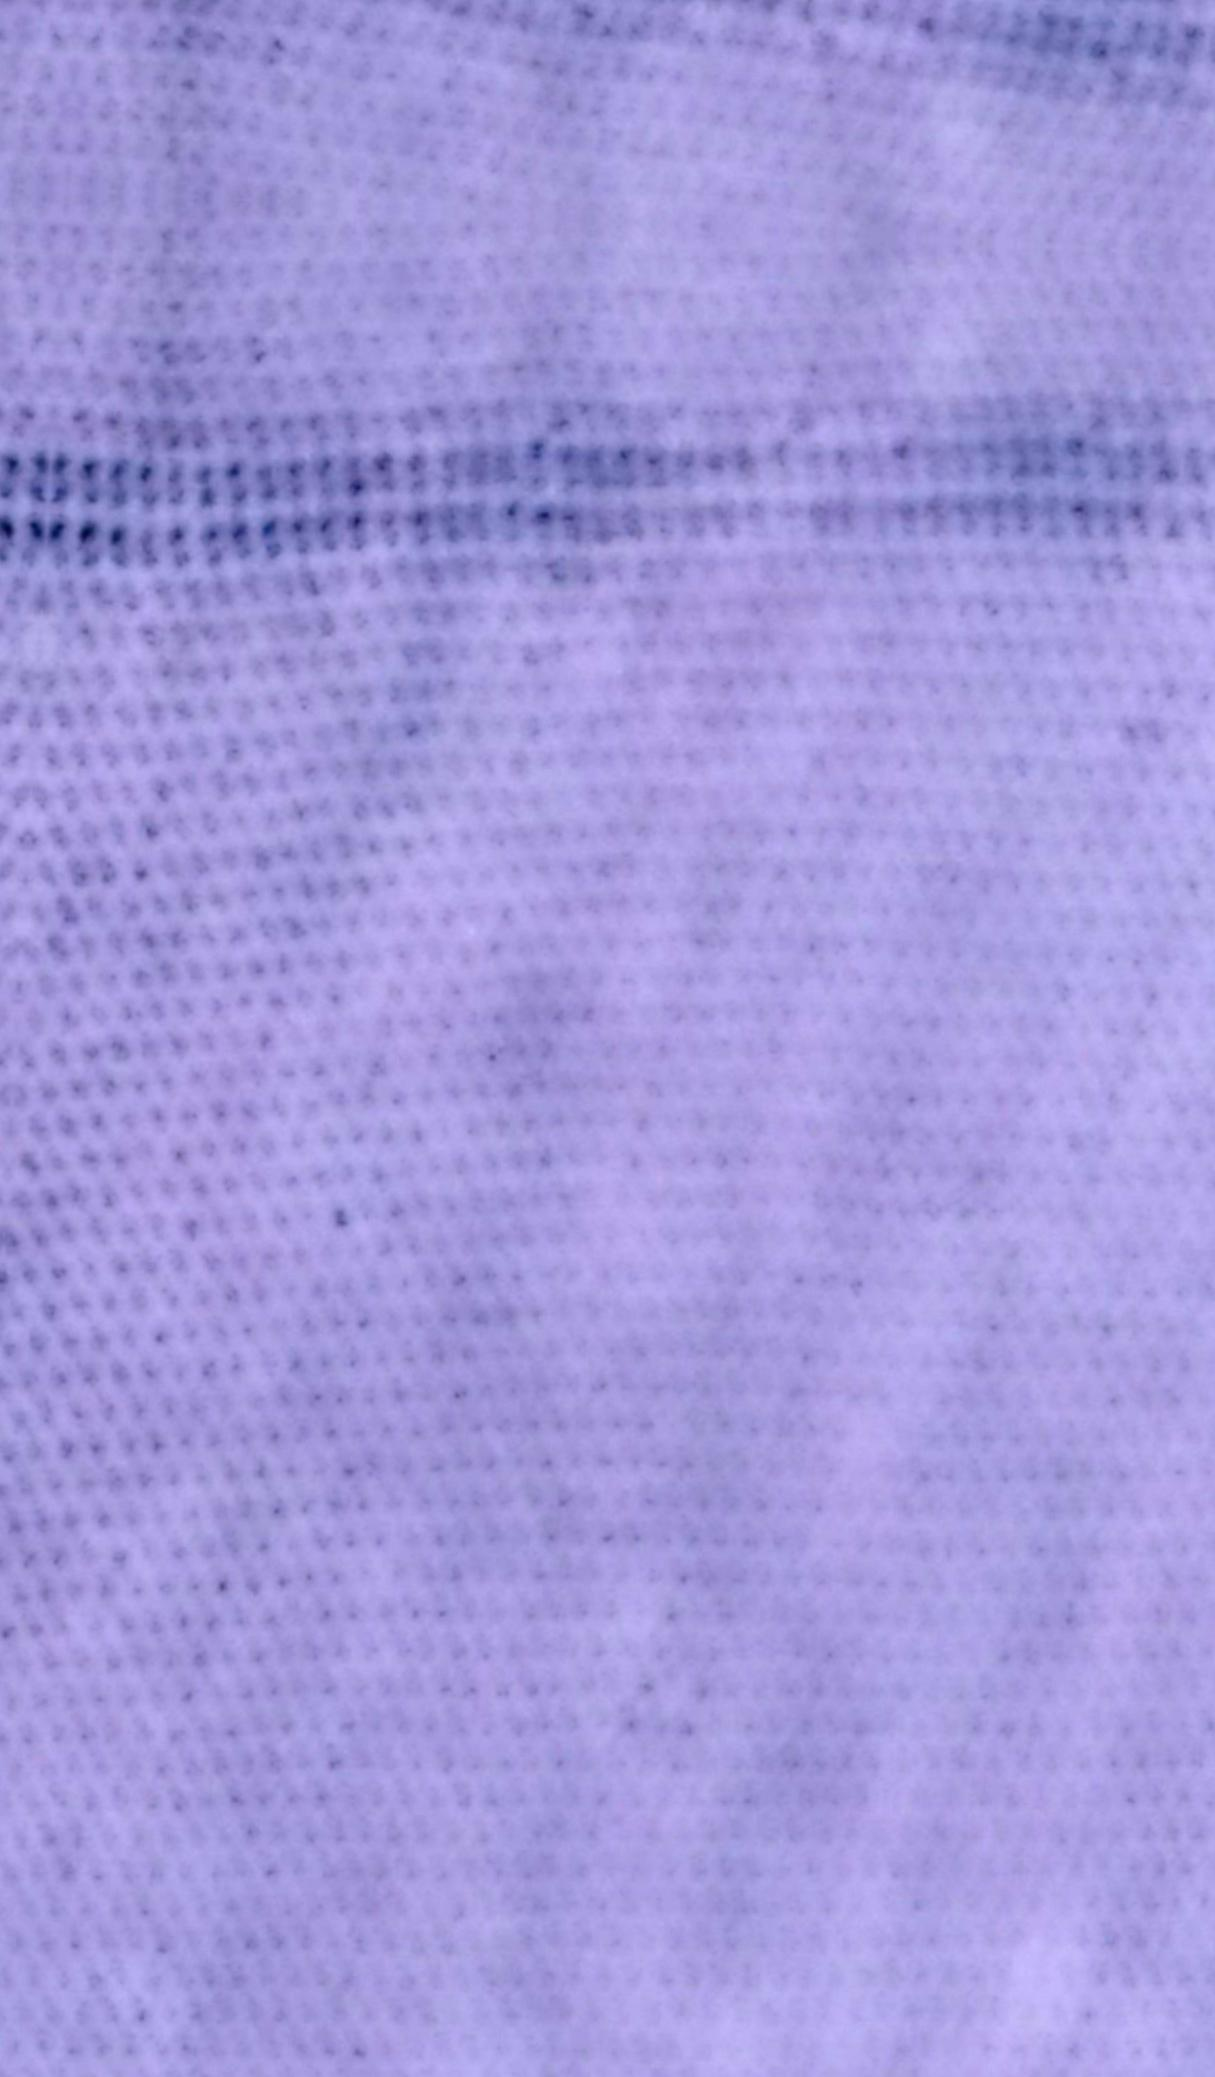slub: (1, 402, 1215, 612), (437, 1, 1212, 148)
